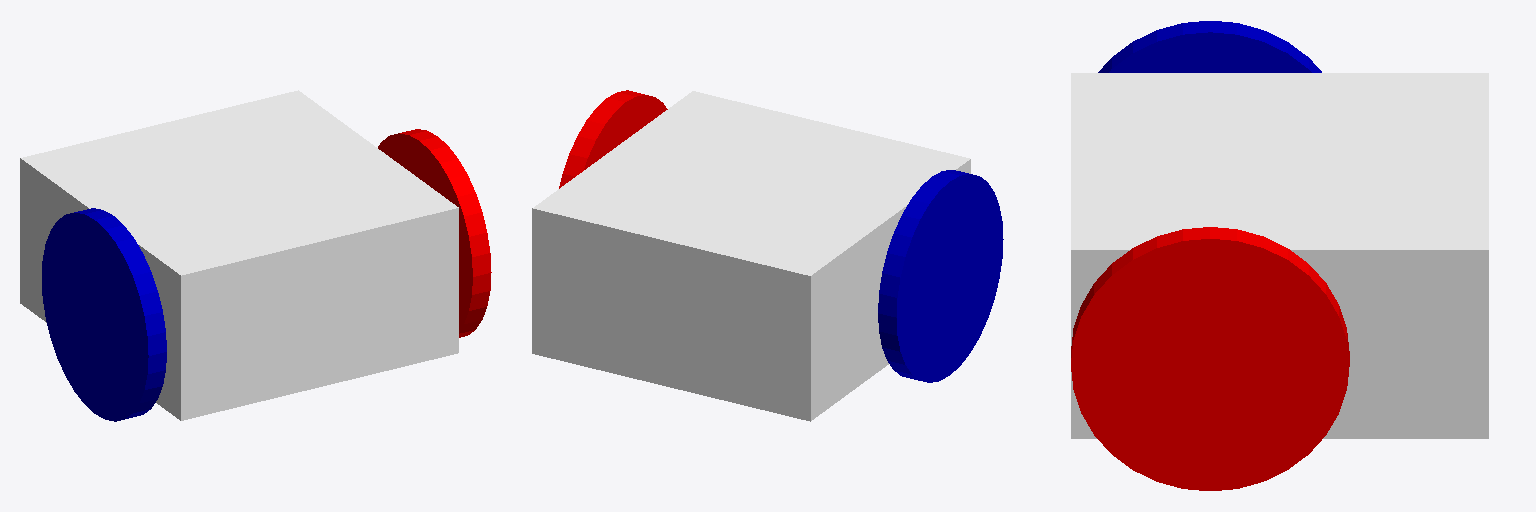
The robot description file, URDF, robot "DiffDriveRobot":
<robot name="DiffDriveRobot">

	<link name="chassis">
		<inertial>
			<mass value="3.0"/>
		</inertial>
        <visual>
            <origin xyz="0.0 0.15 0.1"/>
            <geometry>
                <box size="0.3 0.3 0.15"/>
            </geometry>
            <material name="white"/>
        </visual>
        <collision>
            <origin xyz="0.0 0.15 0.1"/>
            <geometry>
                <box size="0.3 0.3 0.15"/>
            </geometry>
        </collision>
    </link>
	
	<link name="left_wheel">
        <visual>
            <origin xyz="0.0 0.0 0.0" rpy="0.0 1.57075 0.0"/>
            <geometry>
                <cylinder radius="0.1" length="0.02"/>
            </geometry>
            <material name="red"/>
        </visual>
        <collision>
            <origin xyz="0.0 0.0 0.0" rpy="0.0 1.57075 0.0"/>
            <geometry>
                <cylinder radius="0.1" length="0.02"/>
            </geometry>
        </collision>
    </link>
	
	<joint name="left_wheel_joint" type="continuous">
        <origin xyz="0.175 0.1 0.1" rpy="0.0 0.0 0.0"/>
        <parent link="chassis"/>
        <child link="left_wheel"/>
        <axis xyz="1.0 0.0 0.0"/>
		<limit effort="0.03" />
    </joint>
	
	<link name="right_wheel">
        <visual>
            <origin xyz="0.0 0.0 0.0" rpy="0.0 1.57075 0.0"/>
            <geometry>
                <cylinder radius="0.1" length="0.02"/>
            </geometry>
            <material name="blue"/>
        </visual>
        <collision>
            <origin xyz="0.0 0.0 0.0" rpy="0.0 1.57075 0.0"/>
            <geometry>
                <cylinder radius="0.1" length="0.02"/>
            </geometry>
        </collision>
    </link>
	
	<joint name="right_wheel_joint" type="continuous">
        <origin xyz="-0.175 0.1 0.1" rpy="0.0 0.0 0.0"/>
        <parent link="chassis"/>
        <child link="right_wheel"/>
        <axis xyz="1.0 0.0 0.0"/>
		<limit effort="0.03" />
    </joint>
	
	<joint name="caster_joint" type="fixed" extra="free_wheel">
        <origin xyz="0.0 0.24 0.05" rpy="0.0 0.0 0.0"/>
        <parent link="chassis"/>
        <child link="caster_wheel"/>
    </joint>

    <link name="caster_wheel">
        <visual>
            <geometry>
                <sphere radius="0.05"/>
            </geometry>
        <material name="black"/>
        </visual>
        <collision>
            <geometry>
                <sphere radius="0.05"/>
            </geometry>
        </collision>
    </link>
	
	<gobotics>
        <control name="control_robot" type="diff_drive">
            <right_wheel joint="right_wheel_joint"/>
            <left_wheel joint="left_wheel_joint"/>
			<max_speed value="7.0"/>
        </control>
    </gobotics>
	
	<material name="white">
        <color rgba="1 1 1 1"/>
    </material>
	<material name="red">
        <color rgba="1 0 0 1"/>
    </material>
	<material name="green">
        <color rgba="0 1 0 1"/>
    </material>
	<material name="blue">
        <color rgba="0 0 0.8 1"/>
    </material>
    <material name="black">
        <color rgba="0 0 0 1"/>
    </material>
</robot>

--- Render facts (derived) ---
3 views of the same robot in one strip: view 1: azimuth 30°, elevation 25°; view 2: azimuth 150°, elevation 25°; view 3: azimuth 270°, elevation 25° (orthographic).
Model DiffDriveRobot with 4 links and 3 joints (2 continuous, 1 fixed), rooted at chassis, posed every joint at zero.
Links seen in each view (by area): view 1: chassis, right_wheel, left_wheel; view 2: chassis, right_wheel, left_wheel; view 3: chassis, left_wheel, right_wheel.
Link boxes in pixels (<box>): chassis: <box>20,90,458,420</box>; right_wheel: <box>42,208,166,421</box>; left_wheel: <box>378,129,491,337</box>; chassis: <box>532,91,970,421</box>; right_wheel: <box>878,170,1003,382</box>; left_wheel: <box>559,90,667,188</box>; chassis: <box>1071,73,1488,438</box>; left_wheel: <box>1071,227,1349,490</box>; right_wheel: <box>1098,21,1321,72</box>.
Size in the robot's own frame: 0.37 by 0.3 by 0.2 metres.
Geometry: primitives only (box / cylinder / sphere), no mesh files.